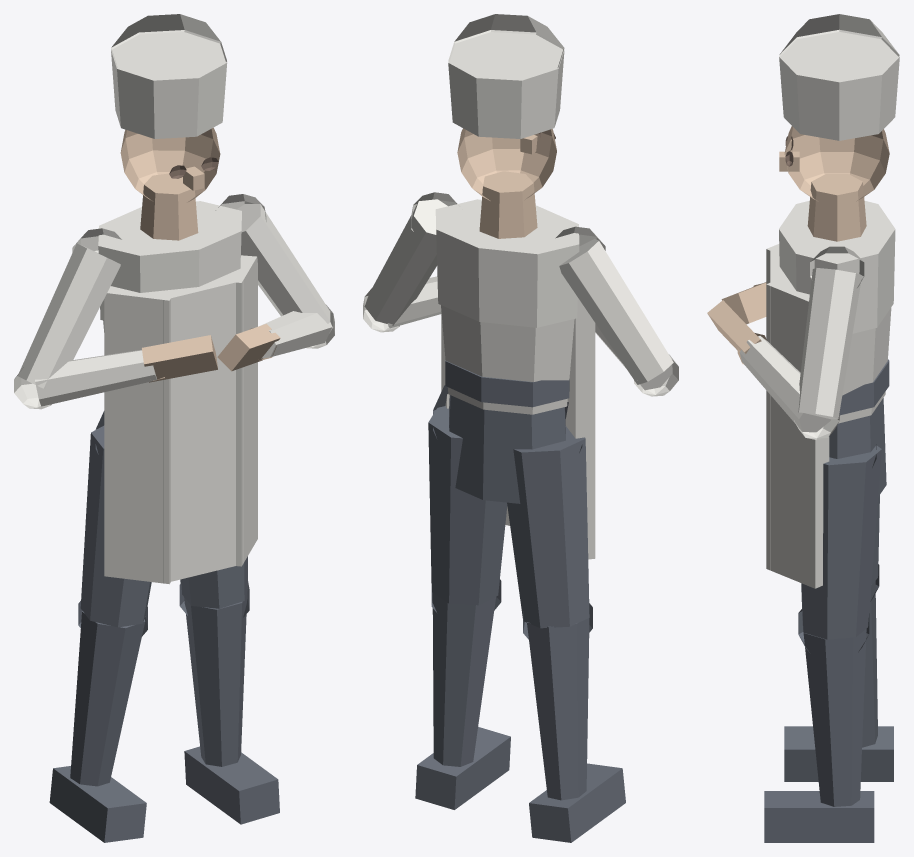
The model's file is low-poly-character-figures-chef-standing-107eec87.glb.
The picture shows the model from 3 angles, left to right: view 1: azimuth 30°, elevation 25°; view 2: azimuth 150°, elevation 25°; view 3: azimuth 270°, elevation 25°; orthographic projection.
Visible parts, largest first — view 1: chef-standing; view 2: chef-standing; view 3: chef-standing.
Part boxes in pixels (x1=…): chef-standing: x1=14, y1=14, x2=334, y2=842; chef-standing: x1=363, y1=14, x2=678, y2=842; chef-standing: x1=707, y1=14, x2=899, y2=842.
Size of the model in its own units: 0.8054 by 1.94 by 0.4299.
